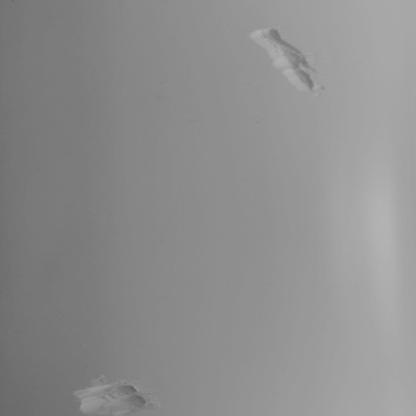sunshang: (248, 27, 321, 93), (66, 377, 151, 416)
